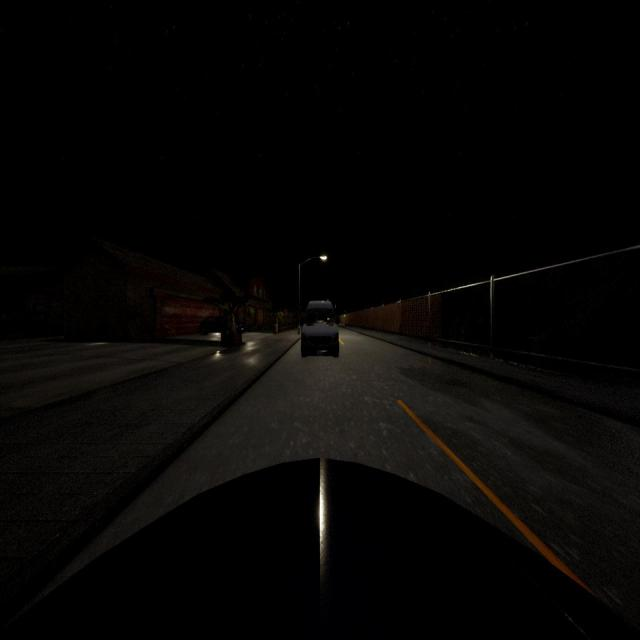Vehicle: (0, 456, 640, 640), (301, 300, 339, 356), (198, 314, 244, 337)
traffic_light: (344, 312, 346, 318)
